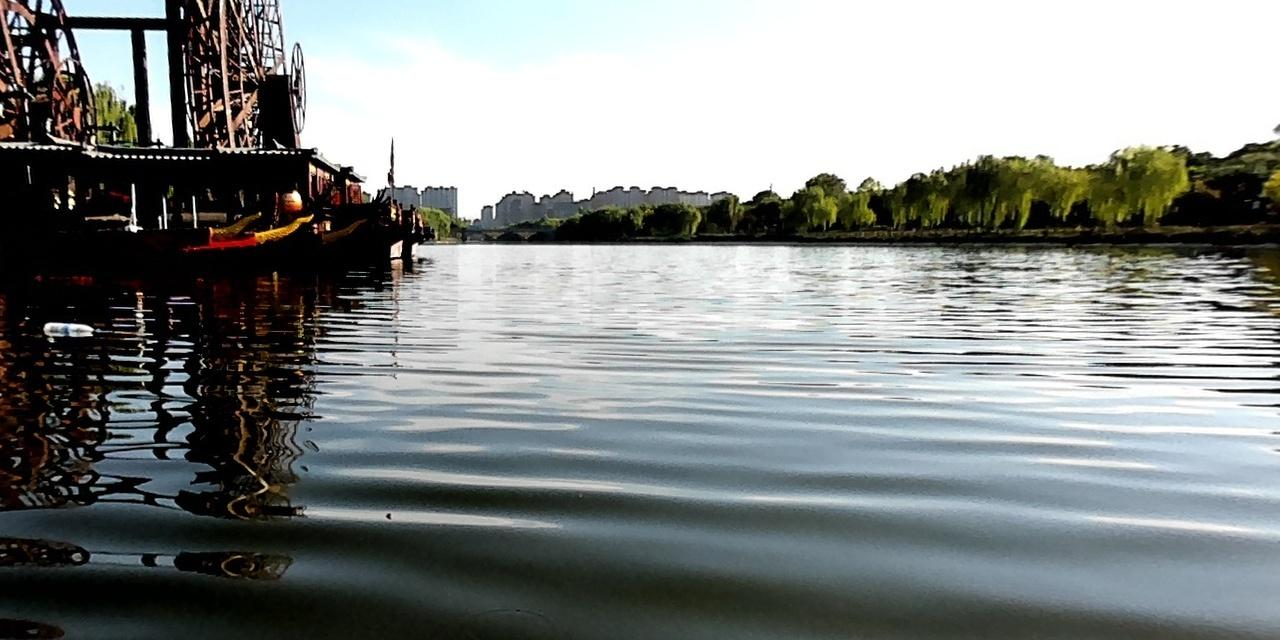bottle: (44, 321, 97, 335)
